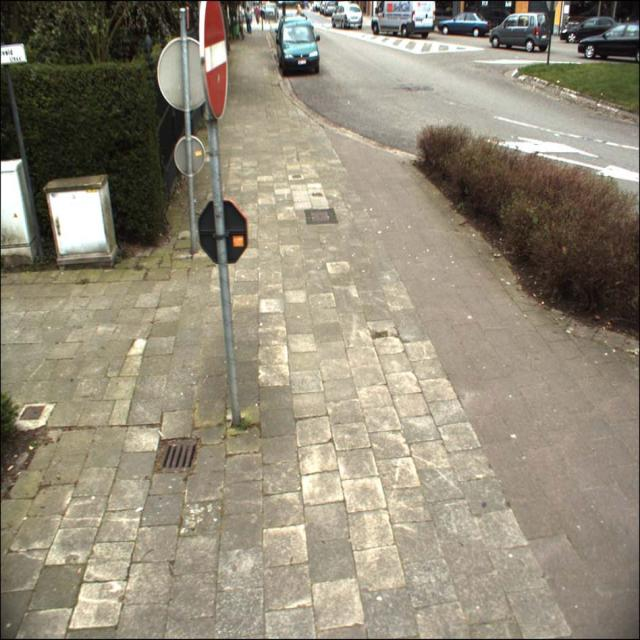girisyok: (202, 5, 228, 119)
